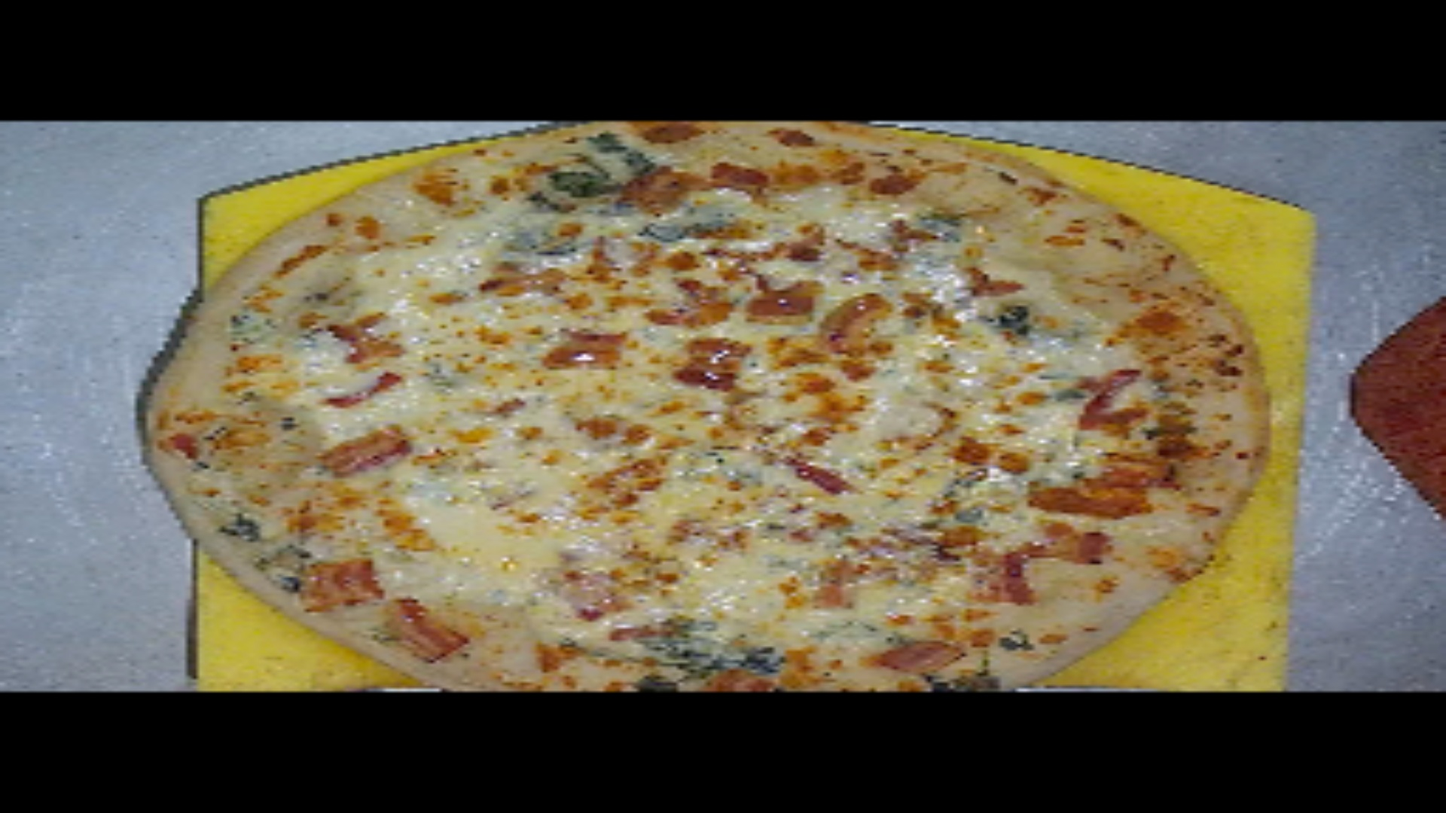pepporoni: (142, 117, 1273, 692)
